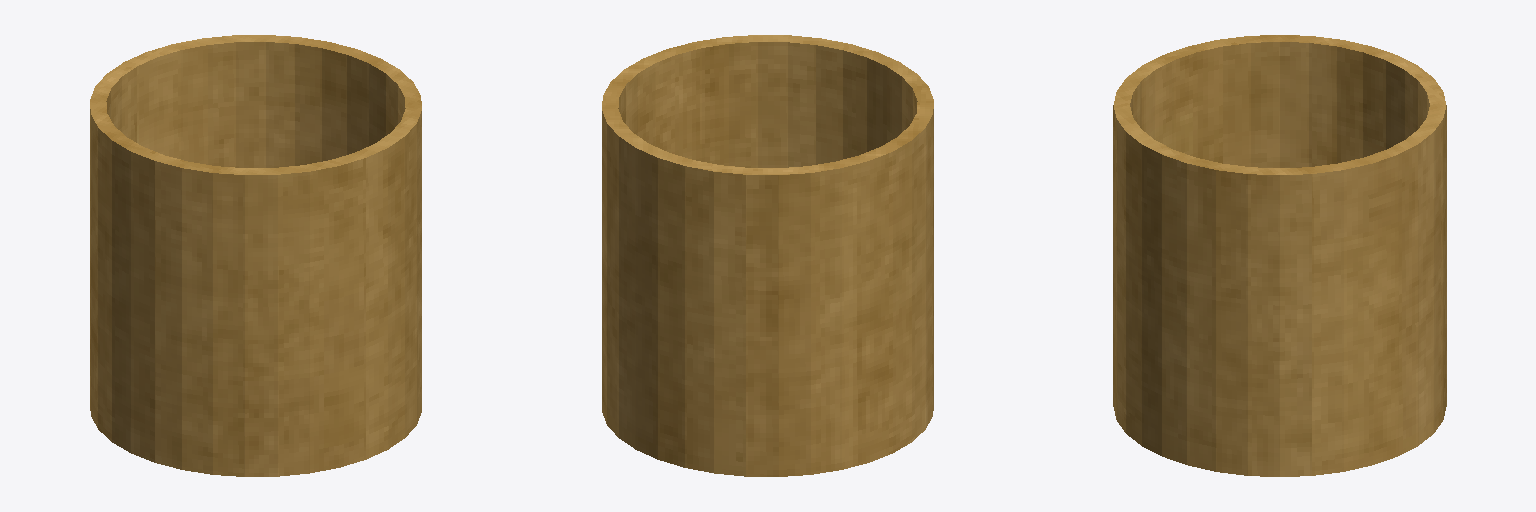
3 views of the same model, side by side, from view 1: azimuth 30°, elevation 25°; view 2: azimuth 150°, elevation 25°; view 3: azimuth 270°, elevation 25° (orthographic).
Visible parts, largest first — view 1: Cylinder; view 2: Cylinder; view 3: Cylinder.
Boxes of the visible parts, box(x1,y1,x2,y2) form: Cylinder: box(90, 35, 421, 476); Cylinder: box(602, 35, 933, 476); Cylinder: box(1113, 35, 1446, 476).
Size of the model in its own units: 2 by 2 by 2.
Materials: 1 (1 with a texture image).